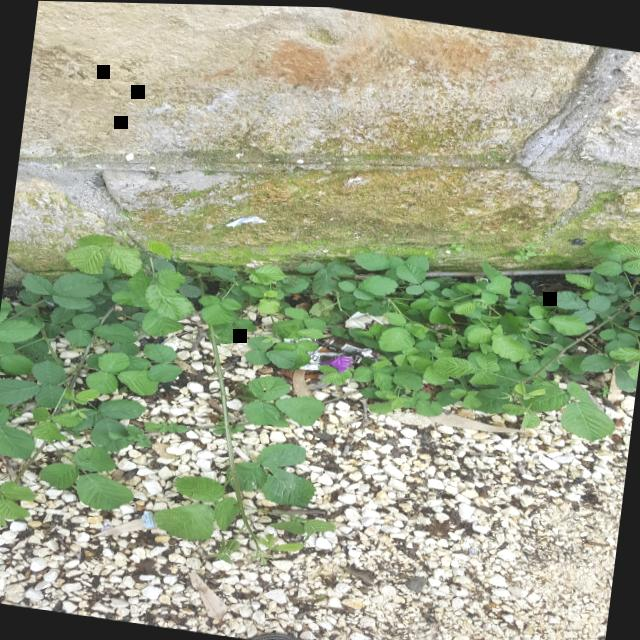Other plastic: (282, 333, 381, 370), (343, 308, 386, 327), (141, 508, 154, 526), (424, 319, 442, 327)
Unlabeled litter: (225, 214, 265, 224)
